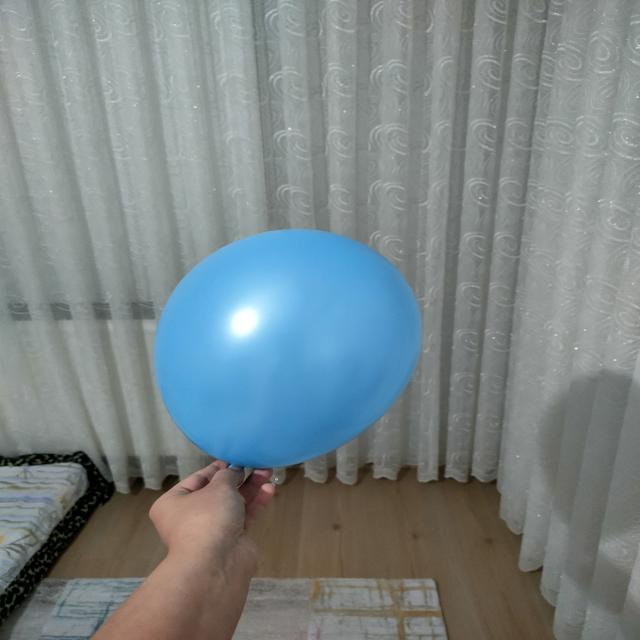blue: (156, 230, 423, 470)
